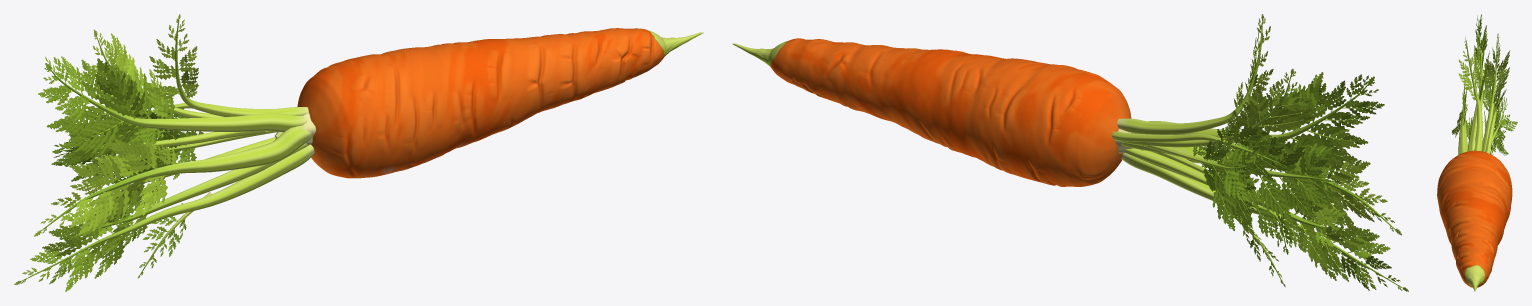
The model's file is carrot.glb.
3 renders of one model, left to right at view 1: azimuth 30°, elevation 25°; view 2: azimuth 150°, elevation 25°; view 3: azimuth 270°, elevation 25°, orthographic. The views are drawn at different scales.
Parts seen in each view (by area): view 1: Carrot; view 2: Carrot; view 3: Carrot.
Boxes of the visible parts, box(x1,y1,x2,y2) form: Carrot: box(14, 14, 703, 291); Carrot: box(732, 14, 1408, 291); Carrot: box(1437, 14, 1517, 291).
Bounding box in the file's own units: 1 × 0.3654 × 0.1644.
2 materials, 1 textured.
